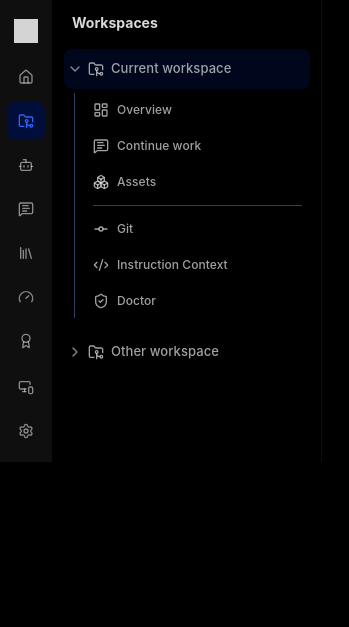
Test: AppSidebar v8 navigation › toggles the current workspace by name and opens other workspaces expanded
Expected: the element with class "workspace-sidebar-children" is shown, [74,93,310,318]
Click the button "Current workspace" at {"x": 209, "y": 69}, box [86,49,332,89]
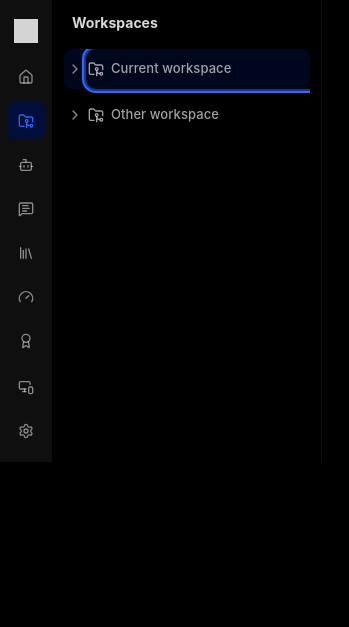
Result: the element with class "workspace-sidebar-children" is gone
Click the button "Current workspace" at {"x": 209, "y": 69}, box [86,49,332,89]
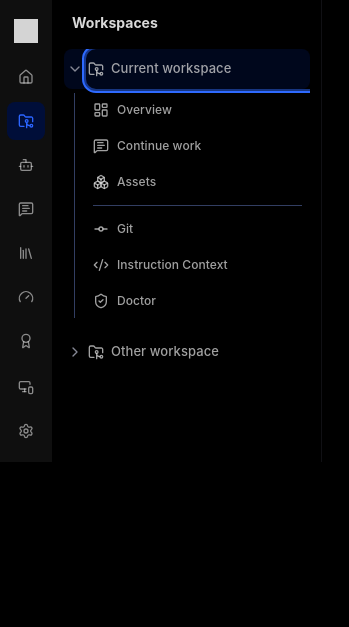
Result: the element with class "workspace-sidebar-children" is shown at [74,93,310,318]
Click the button "Other workspace" at {"x": 209, "y": 352}, box [86,332,332,372]
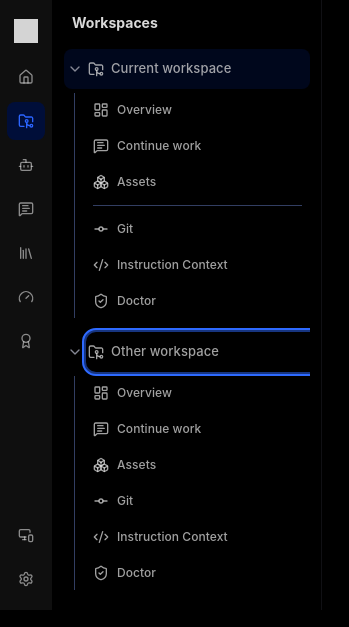
Result: the number of elements with class "workspace-sidebar-children" is 2 at [74,93,310,318]; [74,376,310,590]
